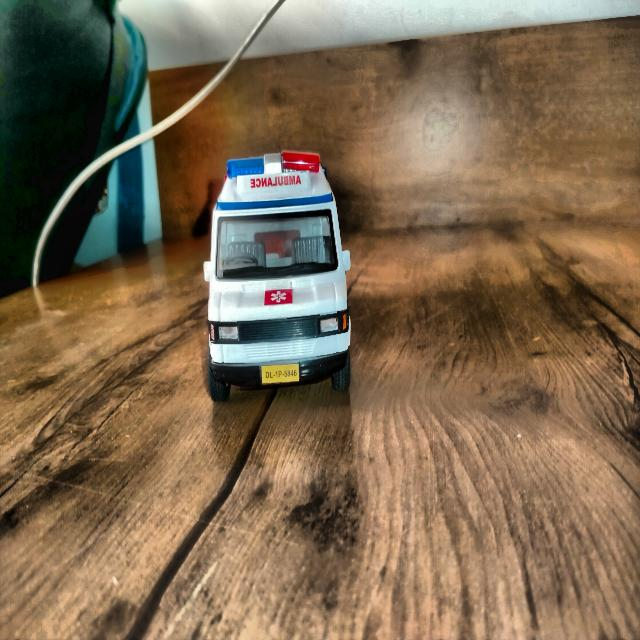Ambulance: (204, 152, 350, 402)
